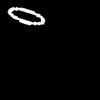chain: (8, 7, 44, 24)
